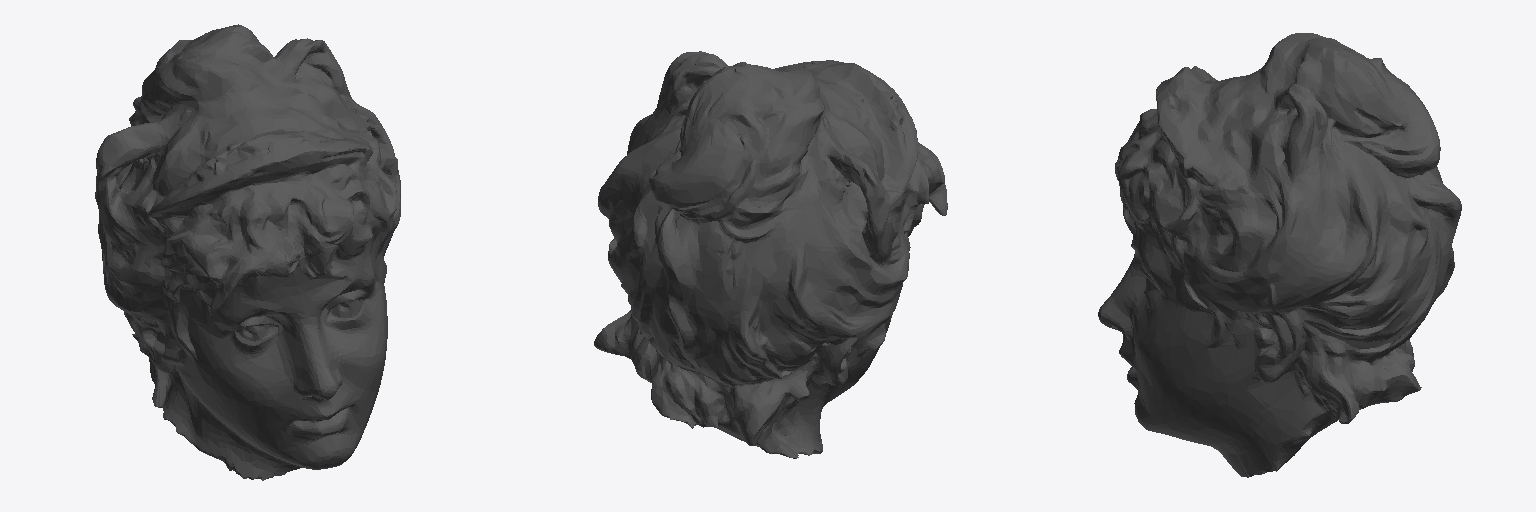
Rendered from female_head.obj.
3 views of the same model, side by side, from view 1: azimuth 30°, elevation 25°; view 2: azimuth 150°, elevation 25°; view 3: azimuth 270°, elevation 25° (orthographic).
Parts seen in each view (by area): view 1: female_head; view 2: female_head; view 3: female_head.
Part boxes in pixels (left/top/right/bottom): female_head: left=95, top=24, right=400, bottom=480; female_head: left=594, top=51, right=947, bottom=458; female_head: left=1098, top=33, right=1461, bottom=477.
Size of the model in its own units: 0.4968 by 0.706 by 0.5606.